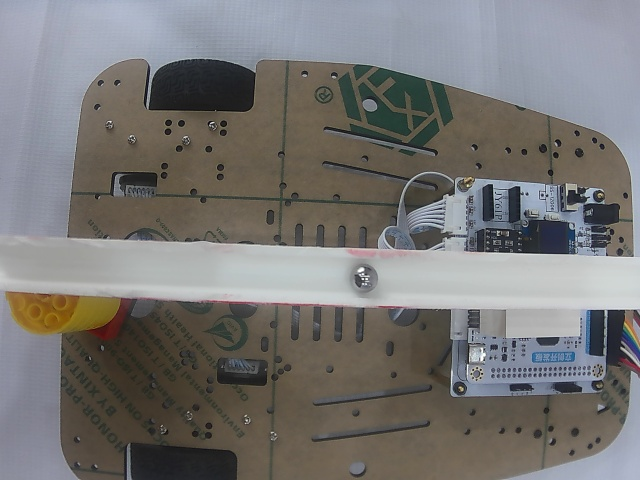steelball: (349, 263, 377, 292)
